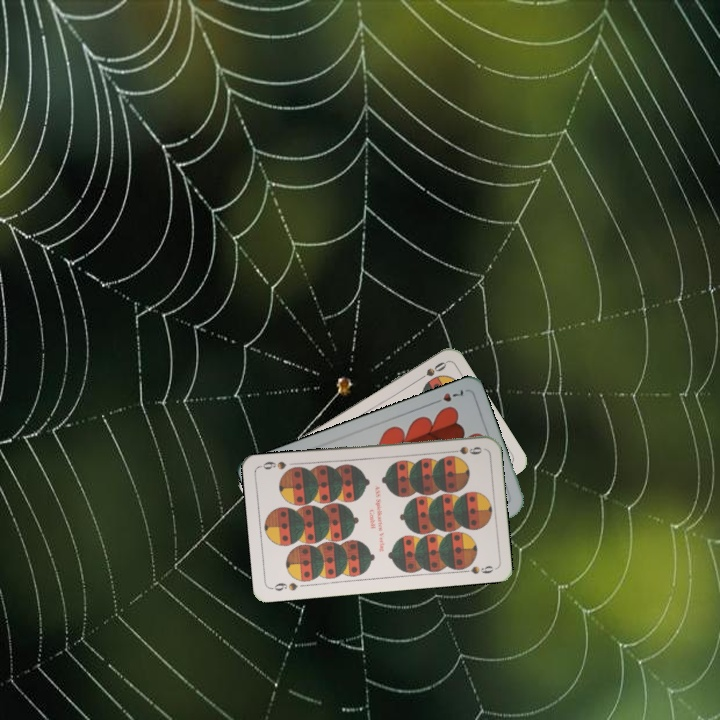H7: (428, 385, 466, 407)
S9: (445, 442, 484, 457), (267, 579, 300, 593)
SO: (412, 357, 449, 384)
